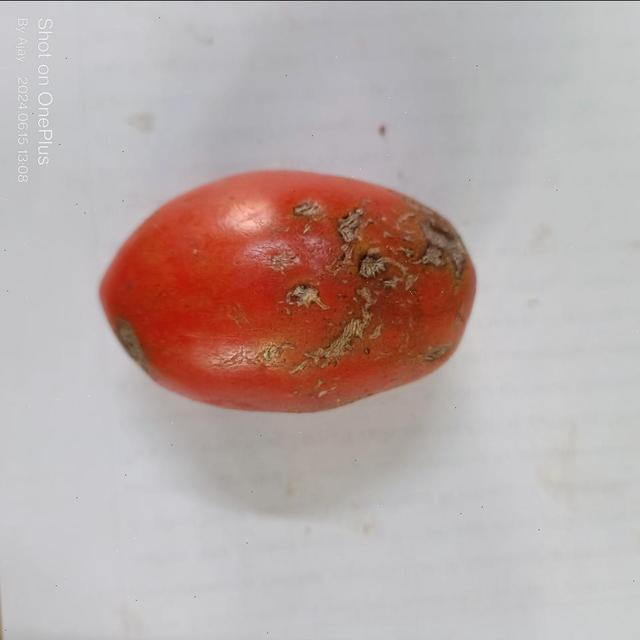Bacterial Spot Fruit: (22, 13, 295, 234)
